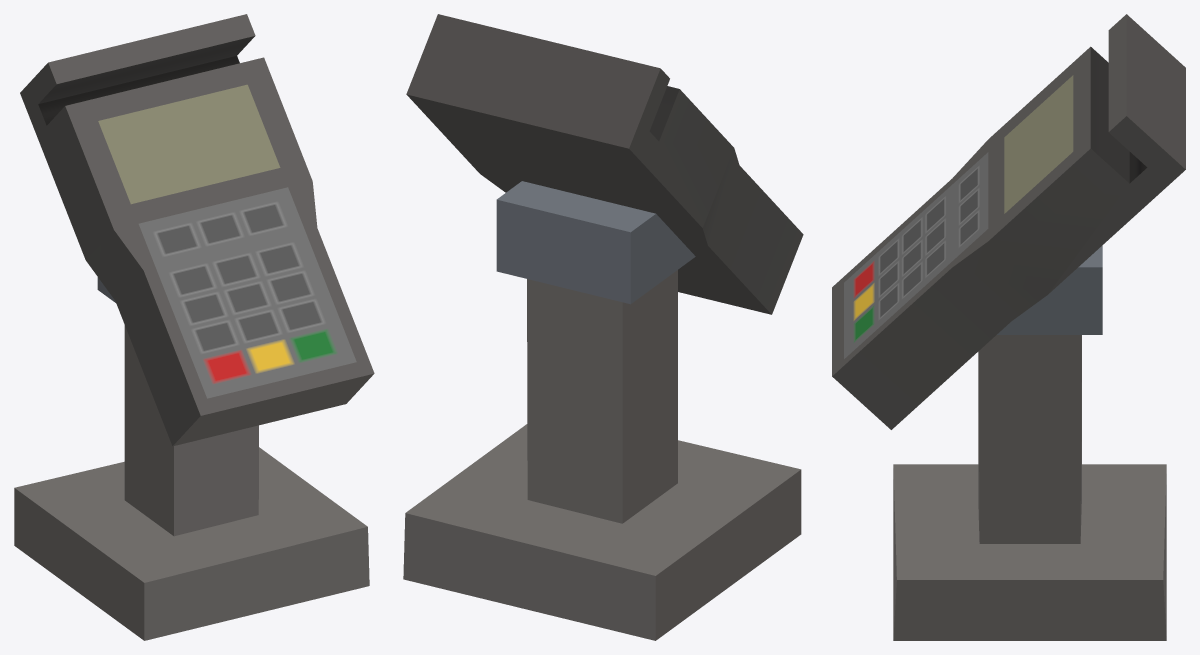
Rendered from CardScanner.glb.
3 renders of one model, left to right at view 1: azimuth 30°, elevation 25°; view 2: azimuth 150°, elevation 25°; view 3: azimuth 270°, elevation 25°, orthographic. The views are drawn at different scales.
Parts seen in each view (by area): view 1: SI_Prop_CardScanner_Handle_01, SI_Prop_CardScanner_01; view 2: SI_Prop_CardScanner_01, SI_Prop_CardScanner_Handle_01; view 3: SI_Prop_CardScanner_01, SI_Prop_CardScanner_Handle_01.
Boxes of the visible parts, bbox=[...] form: SI_Prop_CardScanner_Handle_01: bbox=[20, 14, 374, 446]; SI_Prop_CardScanner_01: bbox=[14, 277, 369, 640]; SI_Prop_CardScanner_01: bbox=[403, 181, 801, 640]; SI_Prop_CardScanner_Handle_01: bbox=[406, 14, 803, 314]; SI_Prop_CardScanner_01: bbox=[893, 245, 1166, 640]; SI_Prop_CardScanner_Handle_01: bbox=[832, 14, 1185, 429].
Size of the model in its own units: 0.00316 by 0.00661 by 0.00409.
Materials: 1 (1 with a texture image).
